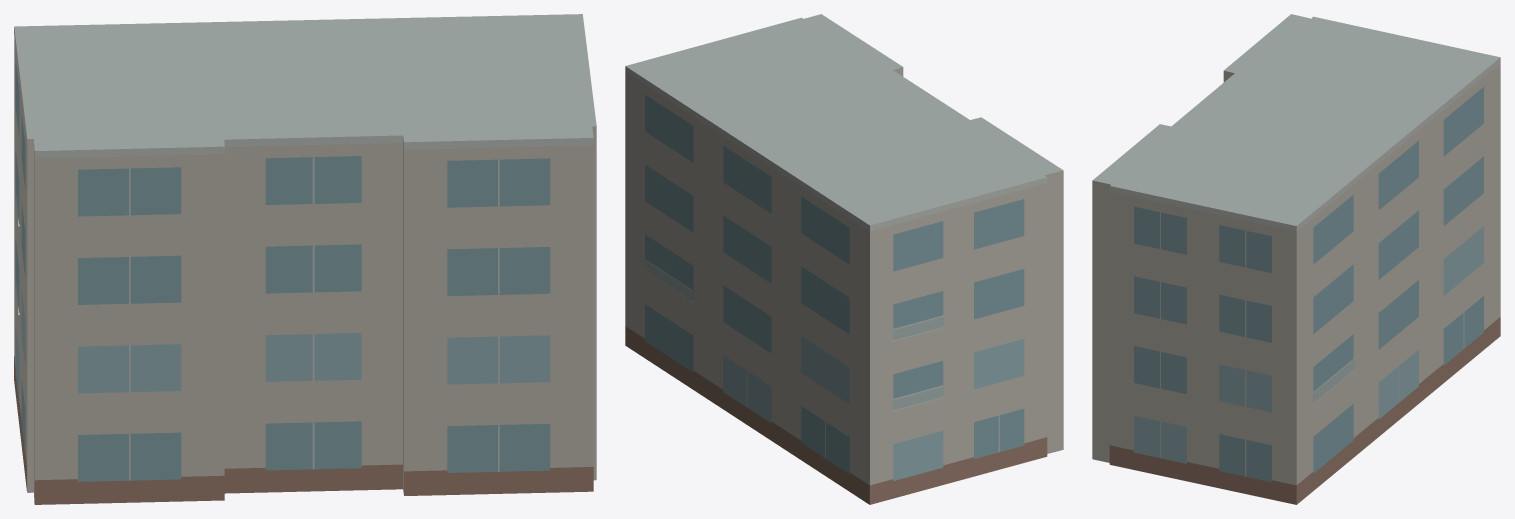
The model's file is survey-upis-33034320.glb.
3 renders of one model, left to right at view 1: azimuth 30°, elevation 25°; view 2: azimuth 150°, elevation 25°; view 3: azimuth 270°, elevation 25°, orthographic. The views are drawn at different scales.
Visible parts, largest first — view 1: survey-upis-33034320.tmp; view 2: survey-upis-33034320.tmp; view 3: survey-upis-33034320.tmp.
Part boxes in pixels (box(x1,y1,x2,y2)): survey-upis-33034320.tmp: box(14, 14, 596, 504); survey-upis-33034320.tmp: box(625, 14, 1063, 504); survey-upis-33034320.tmp: box(1092, 14, 1500, 504).
Size of the model in its own units: 18.86 by 11.55 by 15.34.
